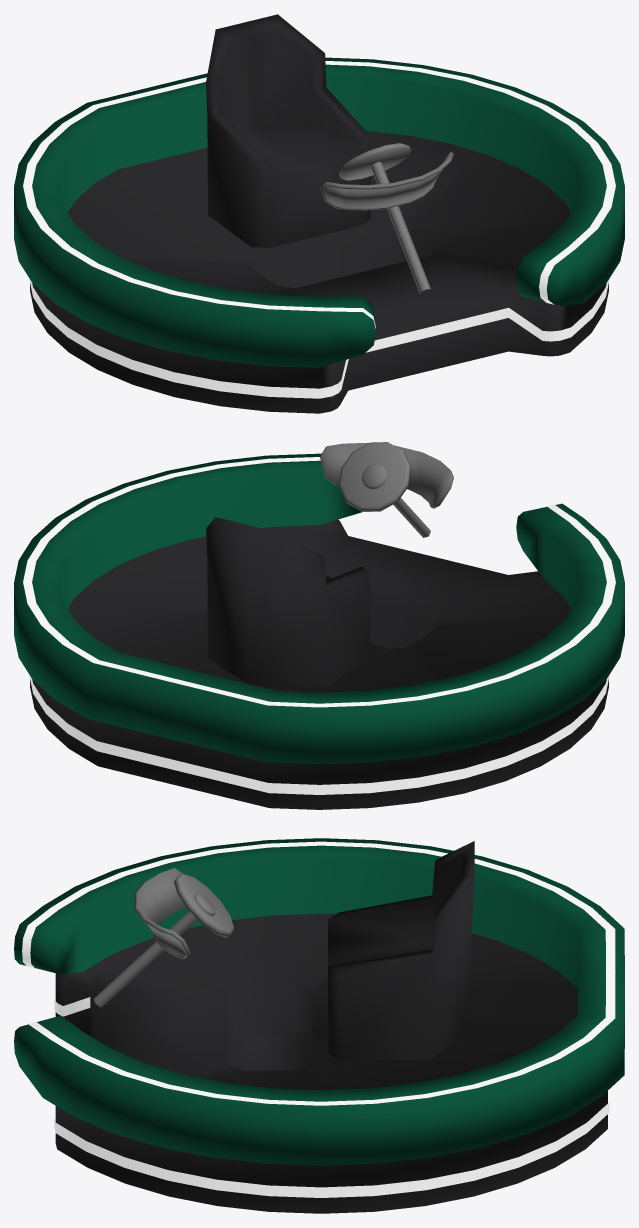
The model's file is basic-vehicle.gltf.
The picture shows the model from 3 angles, top to bottom: view 1: azimuth 30°, elevation 25°; view 2: azimuth 150°, elevation 25°; view 3: azimuth 270°, elevation 25°; orthographic projection. The views are drawn at different scales.
Visible parts, largest first — view 1: template, base.seat, base.display, base.steering; view 2: template, base.seat, base.steering, base.display; view 3: template, base.seat, base.steering, base.display.
Part boxes in pixels (bbox=[...]): template: bbox=[14, 57, 624, 413]; base.seat: bbox=[206, 14, 370, 247]; base.display: bbox=[320, 152, 453, 210]; base.steering: bbox=[339, 143, 430, 293]; template: bbox=[14, 453, 624, 809]; base.seat: bbox=[206, 517, 370, 687]; base.steering: bbox=[339, 442, 430, 537]; base.display: bbox=[320, 442, 453, 508]; template: bbox=[14, 838, 624, 1213]; base.seat: bbox=[328, 841, 474, 1060]; base.steering: bbox=[93, 873, 234, 1007]; base.display: bbox=[134, 868, 190, 959].
Size of what is drawn, in the model's own units: 2.11 by 0.8245 by 2.
Materials: 3 (3 with a texture image).
